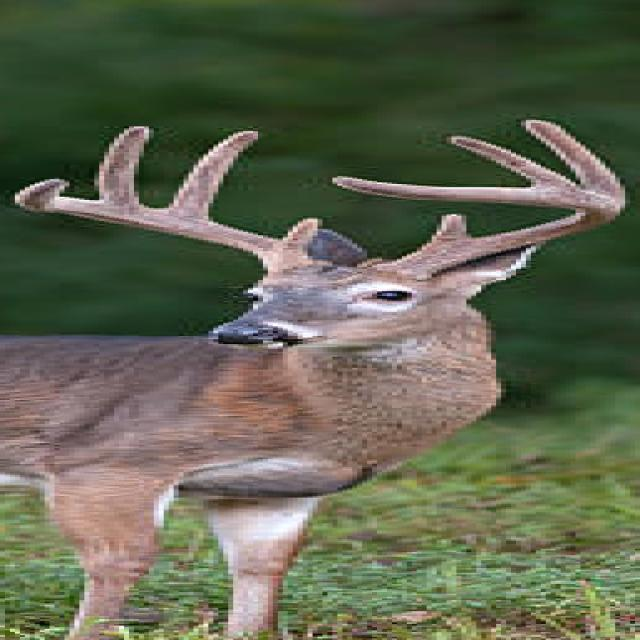L-F: (326, 175, 631, 280)
L-G1: (423, 212, 473, 246)
L-G2: (518, 117, 629, 198)
L-G3: (444, 135, 580, 187)
R-F: (12, 178, 335, 273)
R-G1: (278, 216, 325, 248)
R-G2: (166, 129, 260, 221)
R-G3: (89, 125, 156, 207)
